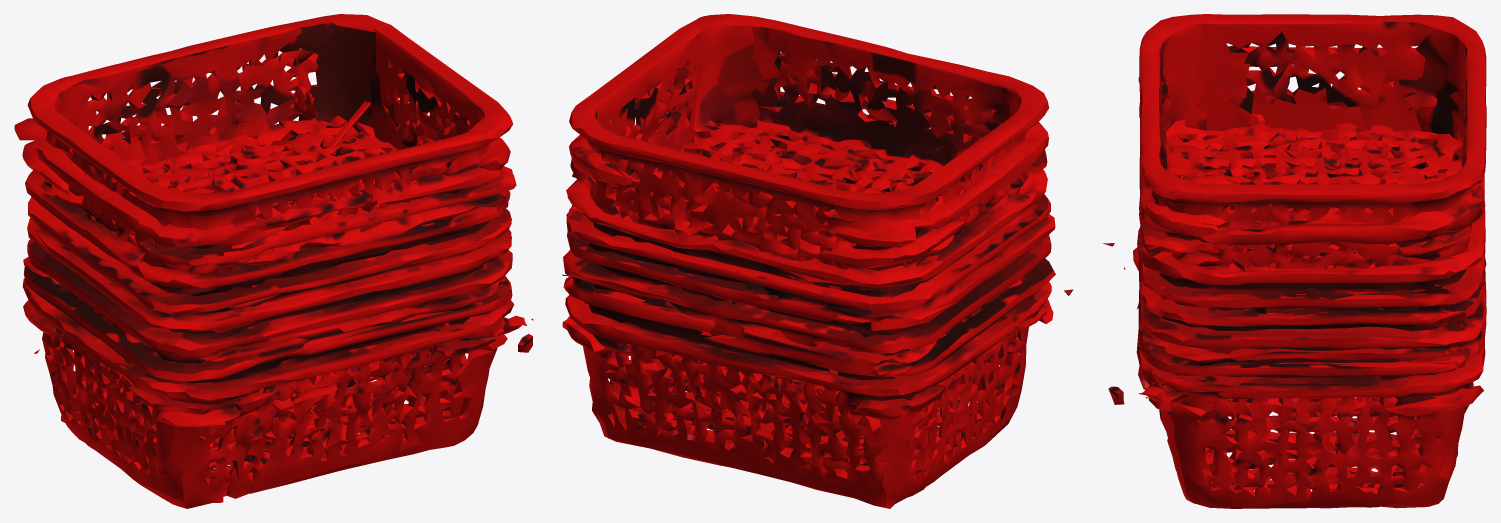
The picture shows the model from 3 angles, left to right: view 1: azimuth 30°, elevation 25°; view 2: azimuth 150°, elevation 25°; view 3: azimuth 270°, elevation 25°; orthographic projection. The views are drawn at different scales.
Visible parts, largest first — view 1: tmp4cm8u6lx.ply; view 2: tmp4cm8u6lx.ply; view 3: tmp4cm8u6lx.ply.
Part boxes in pixels (bbox=[...]): tmp4cm8u6lx.ply: bbox=[14, 14, 533, 508]; tmp4cm8u6lx.ply: bbox=[562, 14, 1073, 508]; tmp4cm8u6lx.ply: bbox=[1103, 14, 1486, 508].
Size of the model in its own units: 198 by 168 by 174.
Materials: 1 (1 with a texture image).
